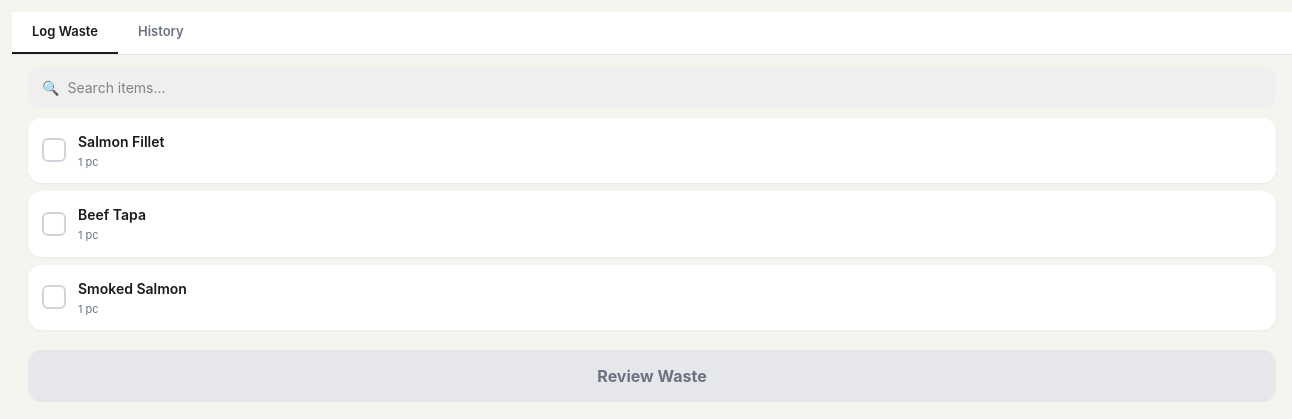
WasteContent item selection › Review button shows selected item count
This screenshot has width=1292, height=419.
What coordinates should you click on to do the following:
click the element with test id "item-row-Salmon Fillet"
I would click on:
 (652, 150)
Its box is [28, 118, 1276, 183].
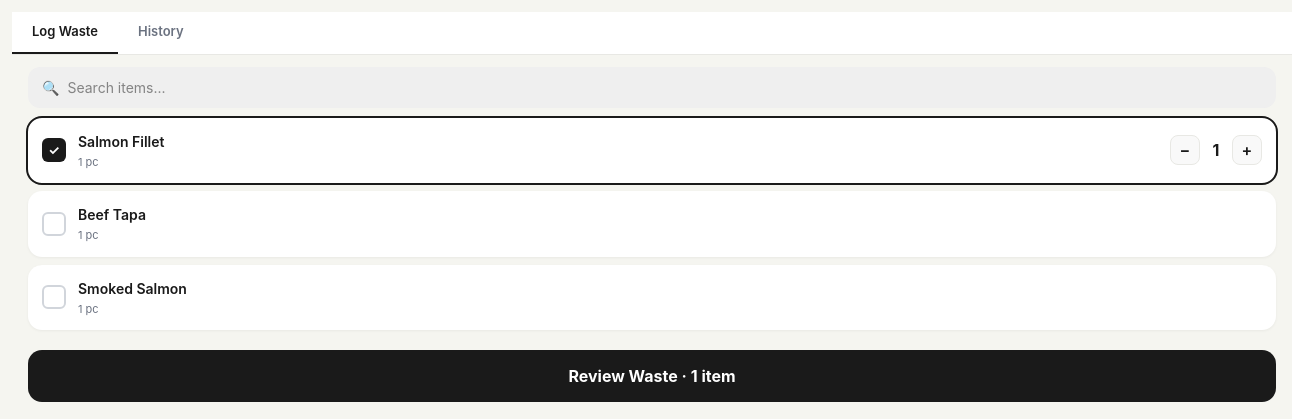
What coordinates should you click on to do the following:
click the element with test id "item-row-Beef Tapa"
I would click on:
 (652, 224)
Its box is [28, 191, 1276, 256].
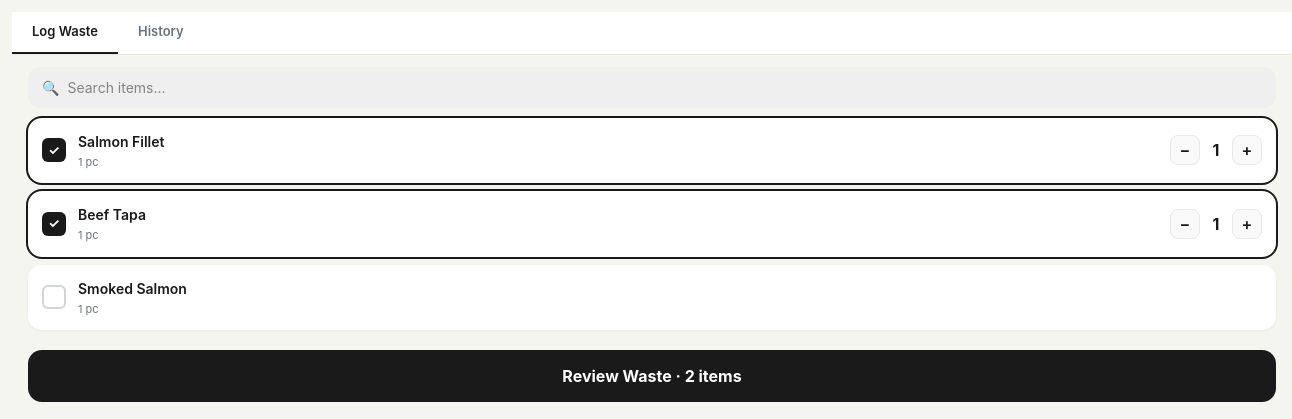
Expected: the button "Review Waste · 2 items" is shown, [28, 350, 1276, 402]
